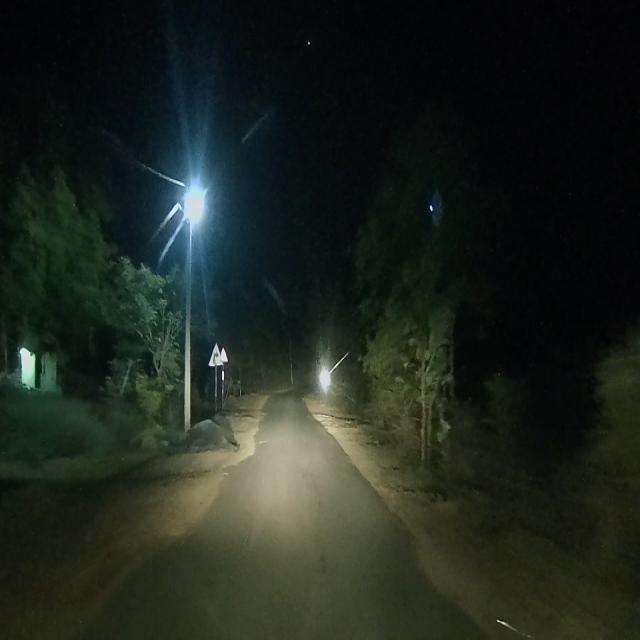right-hand-curve: (210, 343, 222, 365)
